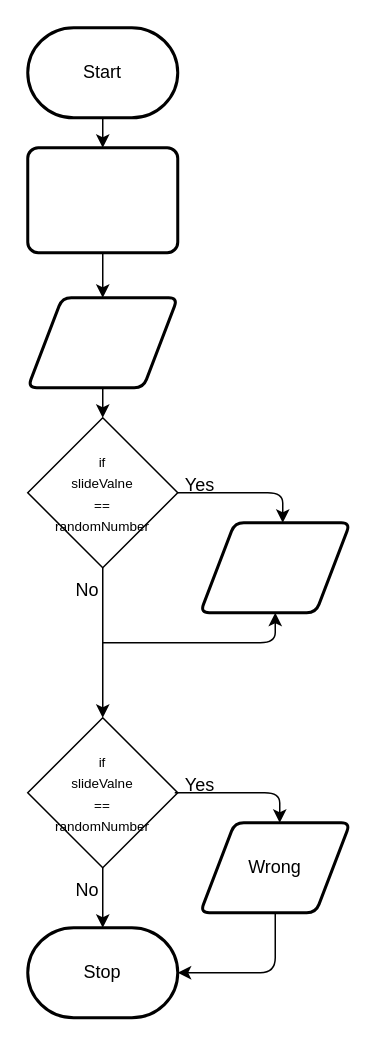
Some shapes in this 377 by 1044 pixel diagram are drawn without their labels. The shapes that lost their labels are listed below. From the top down, each one's box as (x1, y1, x2, y2) in pixels, then its label:
(26, 146, 178, 254): Generate randomNumber
(26, 296, 178, 388): Get sliderValne
(198, 520, 351, 614): Correct
